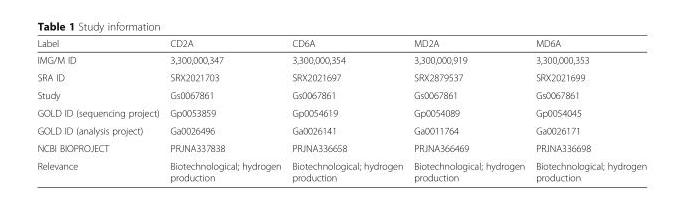table: (36, 37, 646, 182)
table column: (36, 37, 164, 182), (285, 37, 407, 182), (407, 37, 529, 182), (164, 37, 285, 182), (529, 37, 646, 182)
table column header: (36, 37, 646, 51)
table row: (36, 156, 646, 182), (36, 68, 646, 86), (36, 103, 646, 121), (36, 121, 646, 139), (36, 51, 646, 68), (36, 86, 646, 103), (36, 139, 646, 156), (36, 37, 646, 51)
